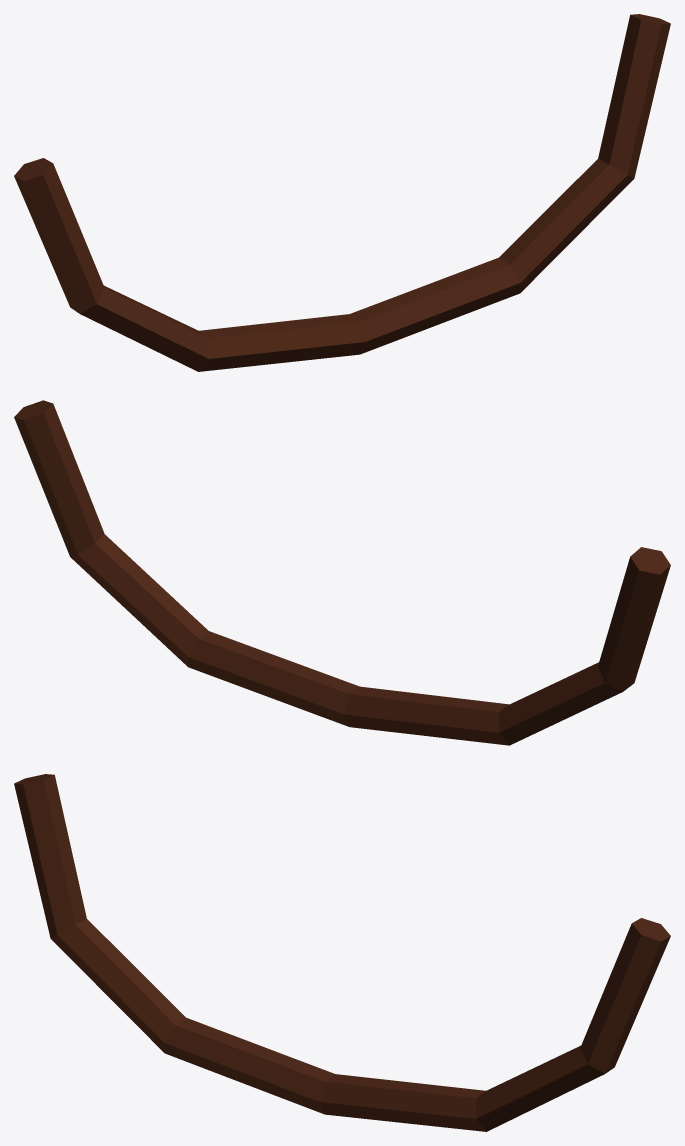
The model's file is SM_NPC_FacialHair_01_Stubble.glb.
3 views of the same model, one above another, from view 1: azimuth 30°, elevation 25°; view 2: azimuth 150°, elevation 25°; view 3: azimuth 330°, elevation 25° (orthographic).
Parts seen in each view (by area): view 1: SM_NPC_FacialHair_01_Stubble; view 2: SM_NPC_FacialHair_01_Stubble; view 3: SM_NPC_FacialHair_01_Stubble.
Boxes of the visible parts, x1=… form: SM_NPC_FacialHair_01_Stubble: x1=14, y1=14, x2=670, y2=371; SM_NPC_FacialHair_01_Stubble: x1=14, y1=400, x2=670, y2=745; SM_NPC_FacialHair_01_Stubble: x1=14, y1=774, x2=670, y2=1131.
Bounding box in the file's own units: 0.4995 × 0.187 × 0.0449.
